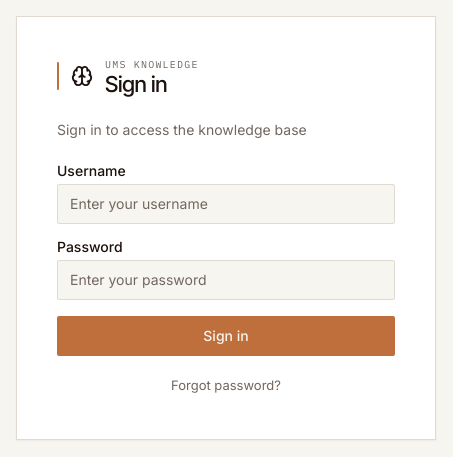
it: LoginForm › disables submit button while loading
The image size is (453, 457).
Type "admin" into the field labelled "Username".
click(226, 204); type("admin")  # box [57,184,395,224]
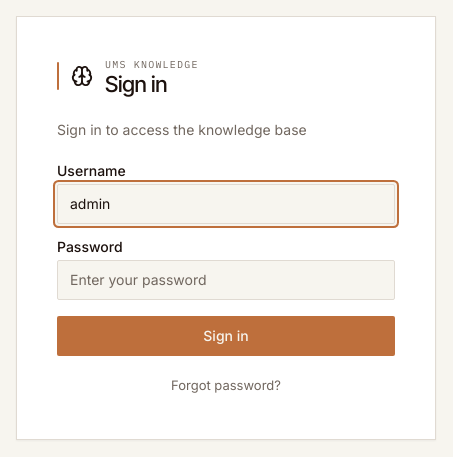
Type "pass" into the password field labelled "Password".
click(226, 280); type("pass")  # box [57,260,395,300]
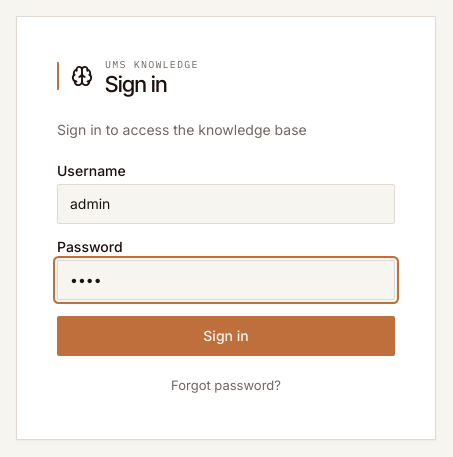
Click the button "Sign in".
click(226, 336)  # box [57,316,395,356]
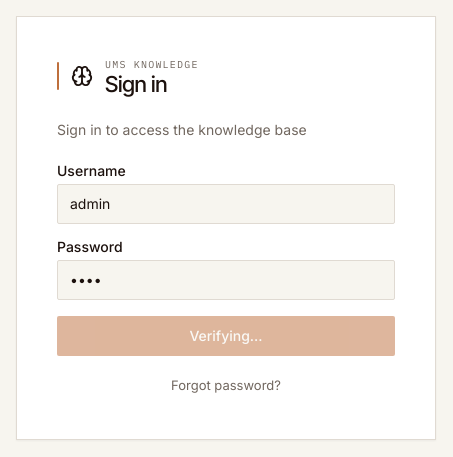
expect the button "Verifying…" is disabled: met, box [57,316,395,356]
